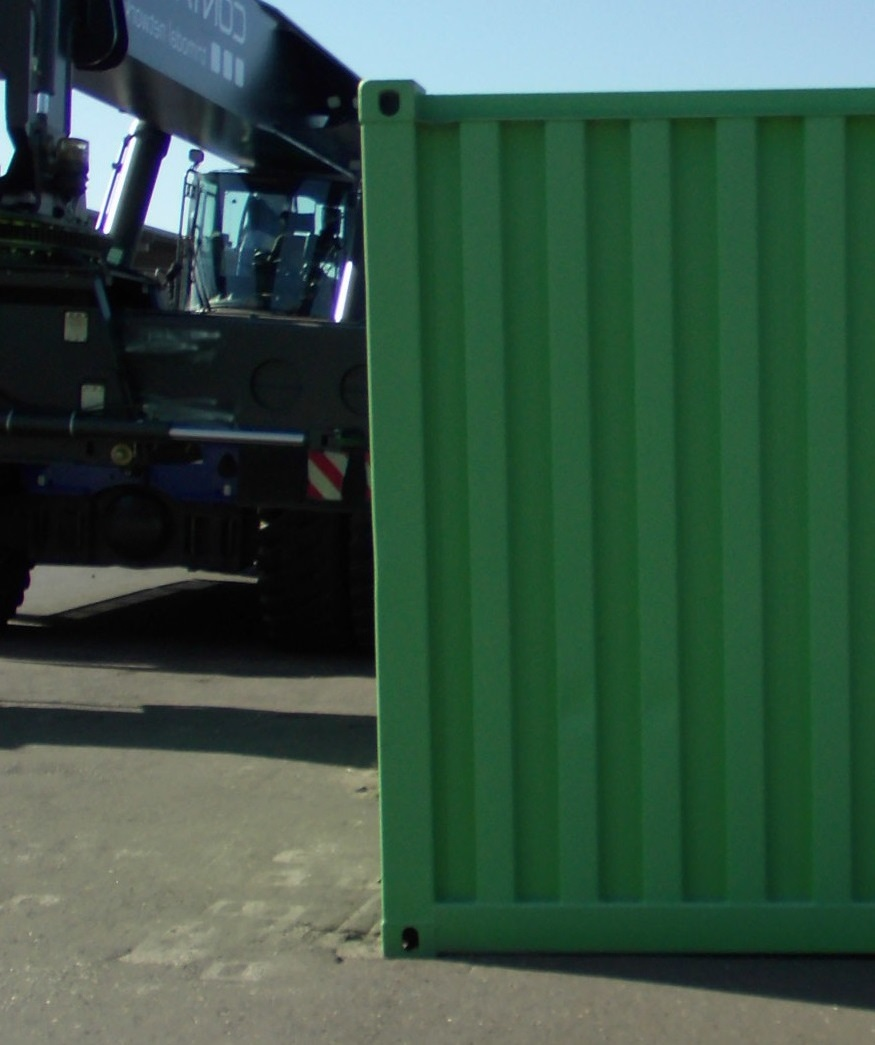container_no_door: (356, 76, 875, 962)
